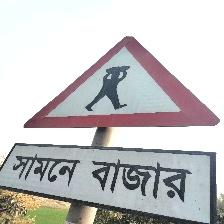Market-in-front: (14, 35, 221, 224)
